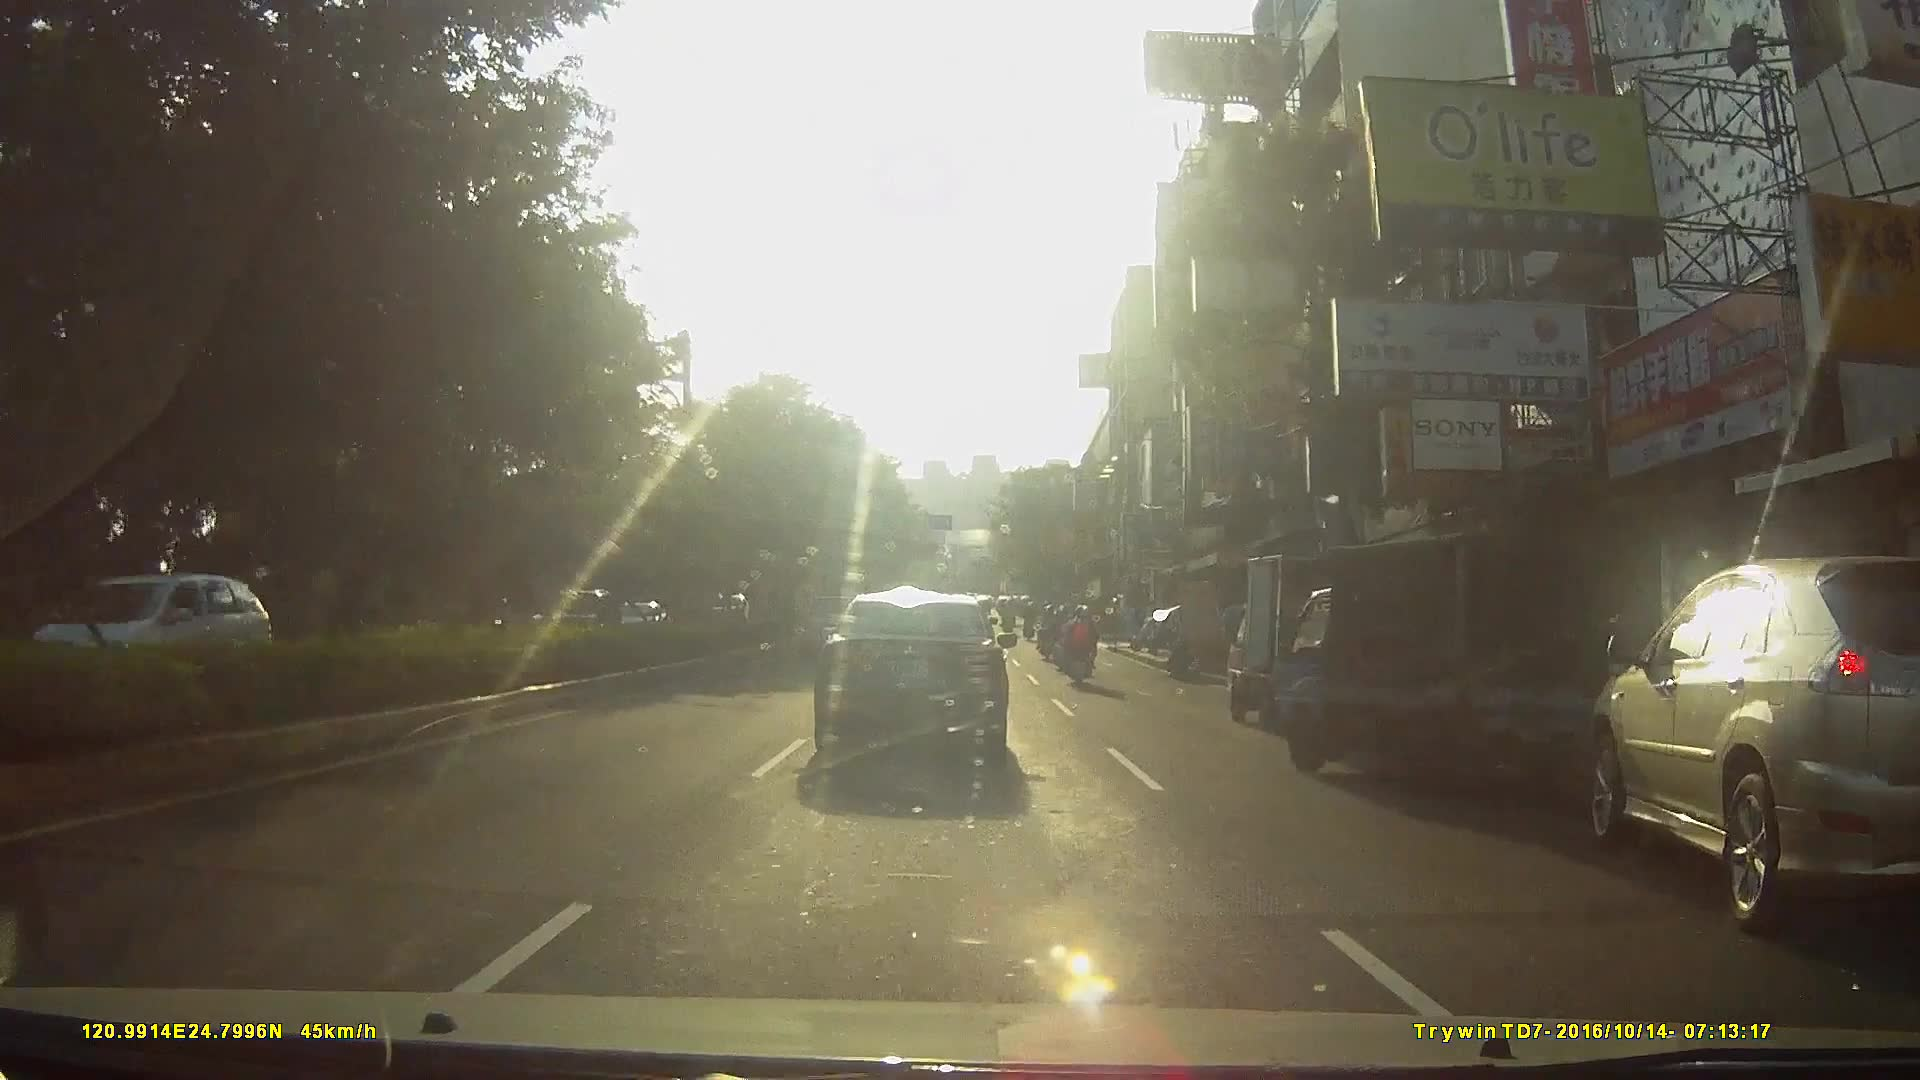rider: (1057, 607, 1100, 696), (1038, 606, 1059, 663)
vehicle: (1561, 545, 1920, 933), (1277, 519, 1659, 815), (811, 589, 1031, 780), (1215, 547, 1427, 737), (33, 569, 261, 684)
